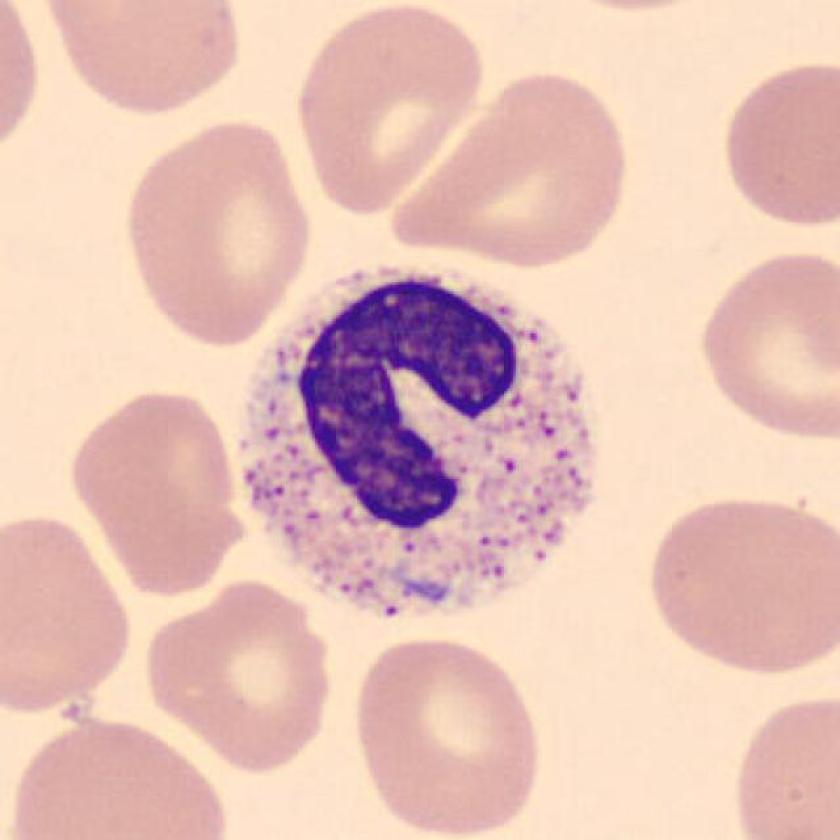neutrophil: (239, 268, 594, 612)
